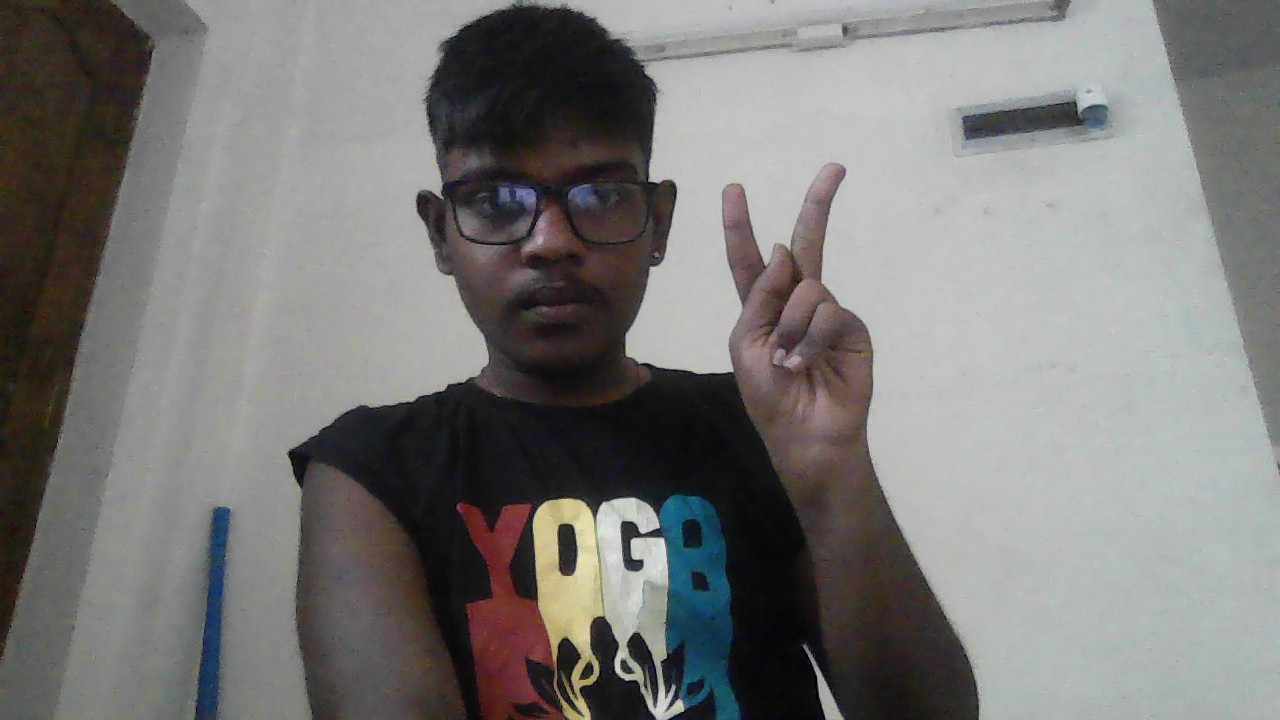K: (720, 162, 874, 469)
